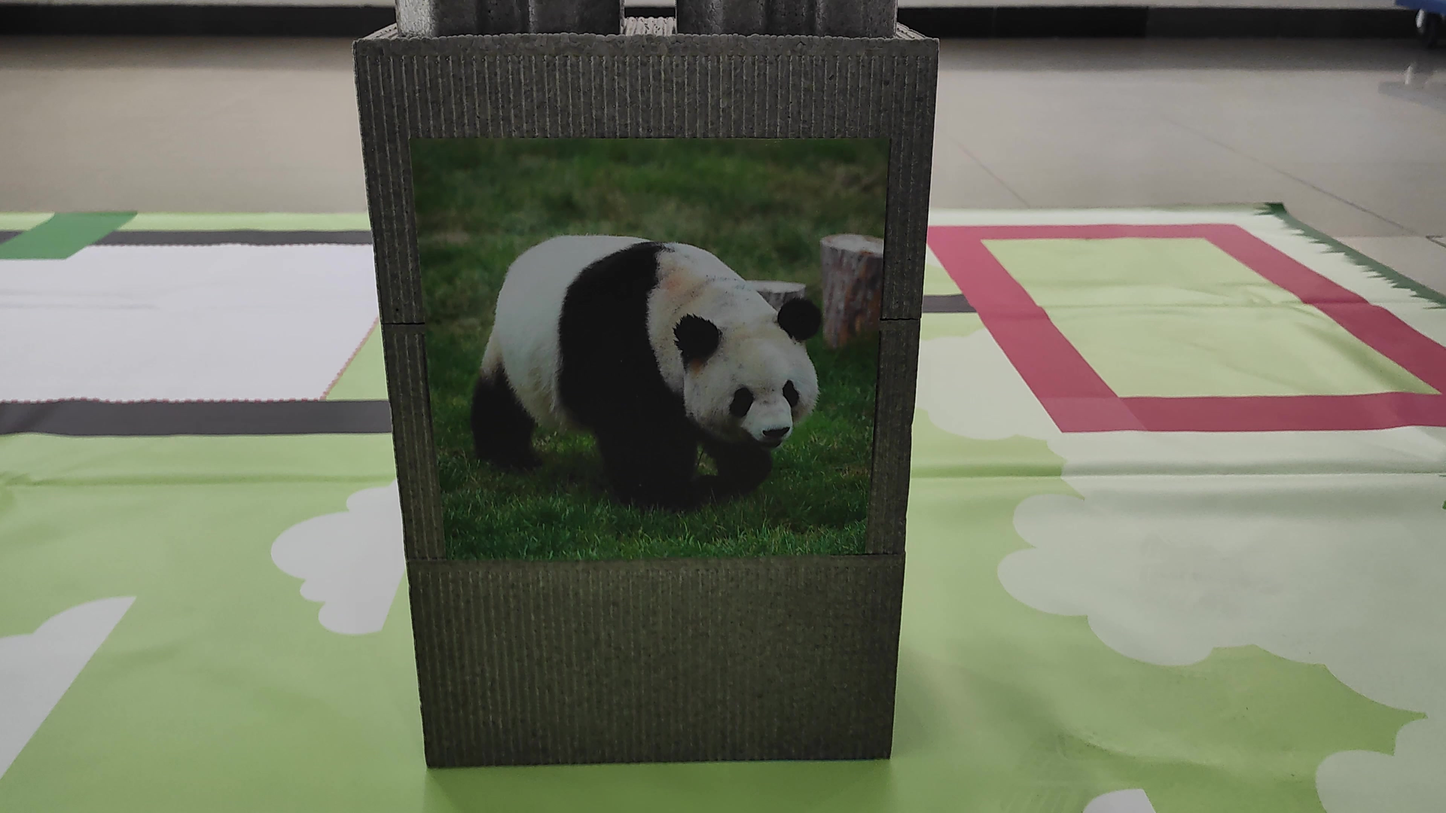panda: (444, 213, 831, 519)
